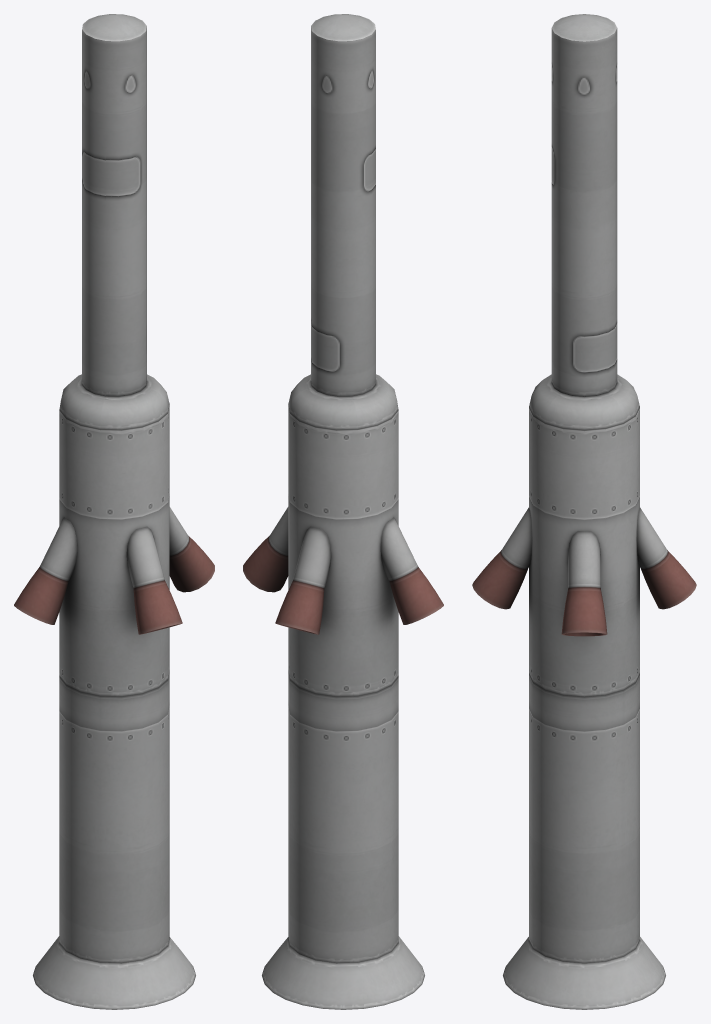
The model's file is octans_les_s0_1.obj.
3 views of the same model, side by side, from view 1: azimuth 30°, elevation 25°; view 2: azimuth 150°, elevation 25°; view 3: azimuth 270°, elevation 25° (orthographic).
Parts seen in each view (by area): view 1: mesh; view 2: mesh; view 3: mesh.
Boxes of the visible parts, x1,y1,x2,y2 form: mesh: [14, 14, 214, 1009]; mesh: [243, 14, 443, 1009]; mesh: [472, 14, 696, 1009].
Size of the model in its own units: 0.8598 by 4.05 by 0.8598.
1 material, 1 textured.
